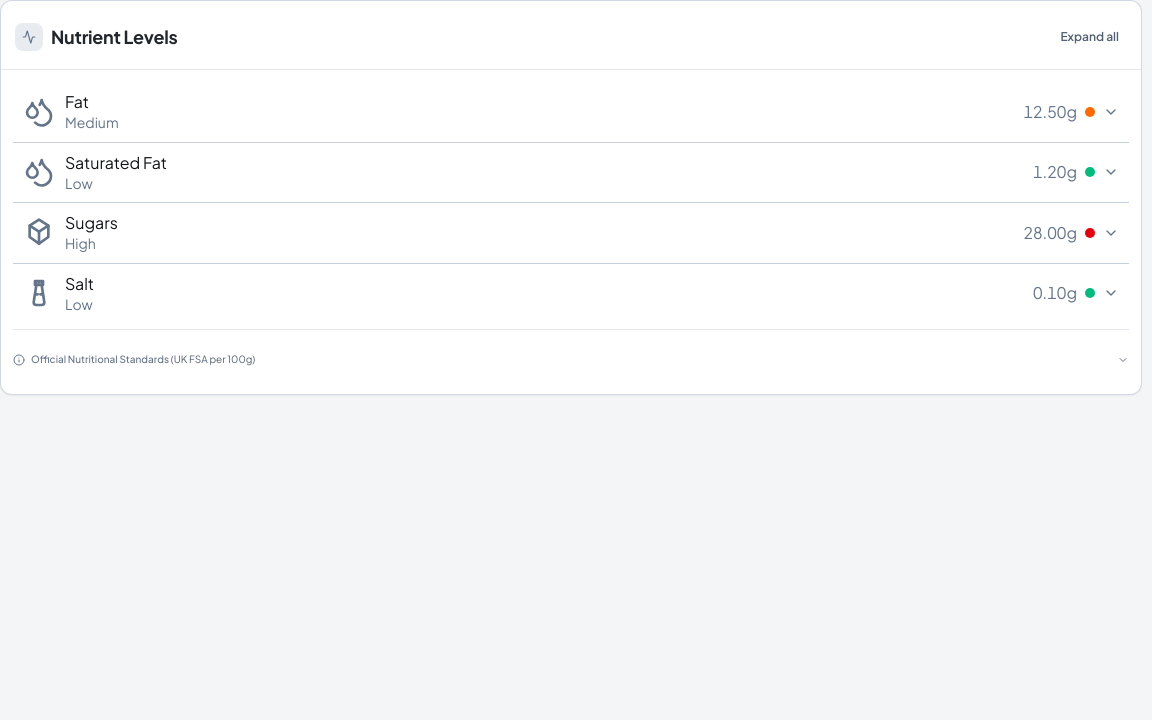
Scenario: NutrientLevelsCard (Yuka-style) › expand all and collapse all controls work as expected
The image size is (1152, 720).
Click the button "Expand all".
click(1090, 37)  # box 1052,15 -> 1127,59
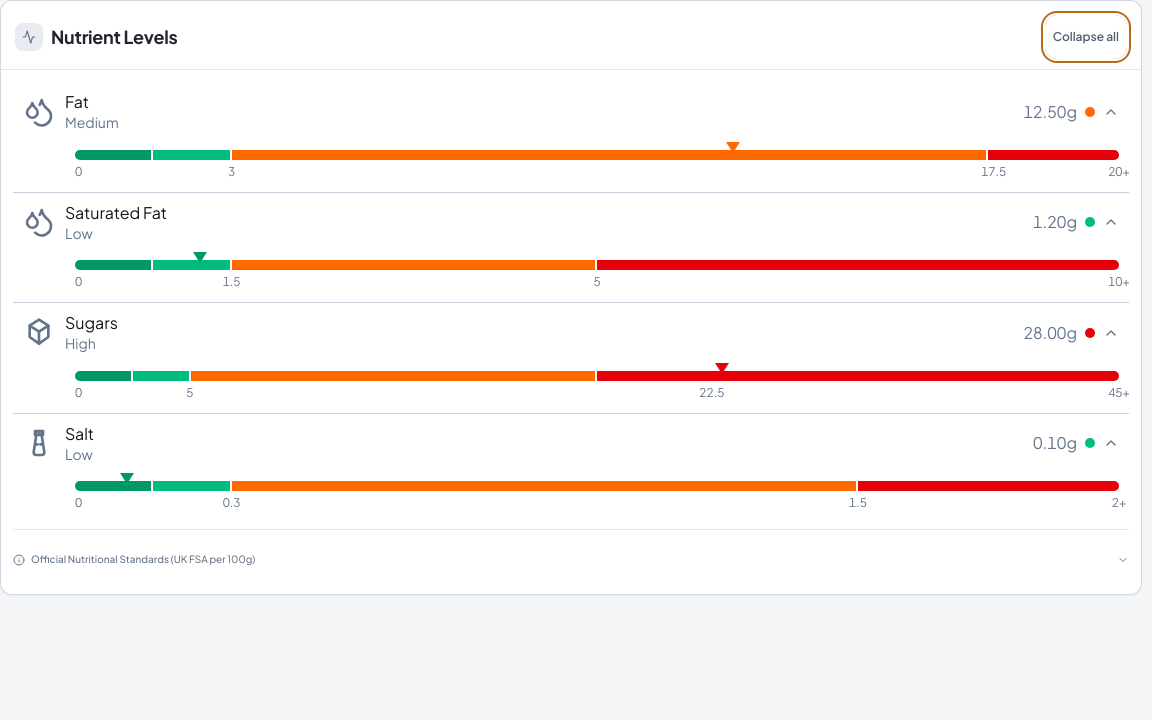
Expected: the number of elements with test id "scale-track" is 4, 75,150 -> 1119,160; 75,260 -> 1119,270; 75,370 -> 1119,380; 75,481 -> 1119,491
Expected: the button "Collapse all" is shown
Note: Click collapse all
Click the button "Collapse all".
click(1086, 37)  # box 1045,15 -> 1127,59
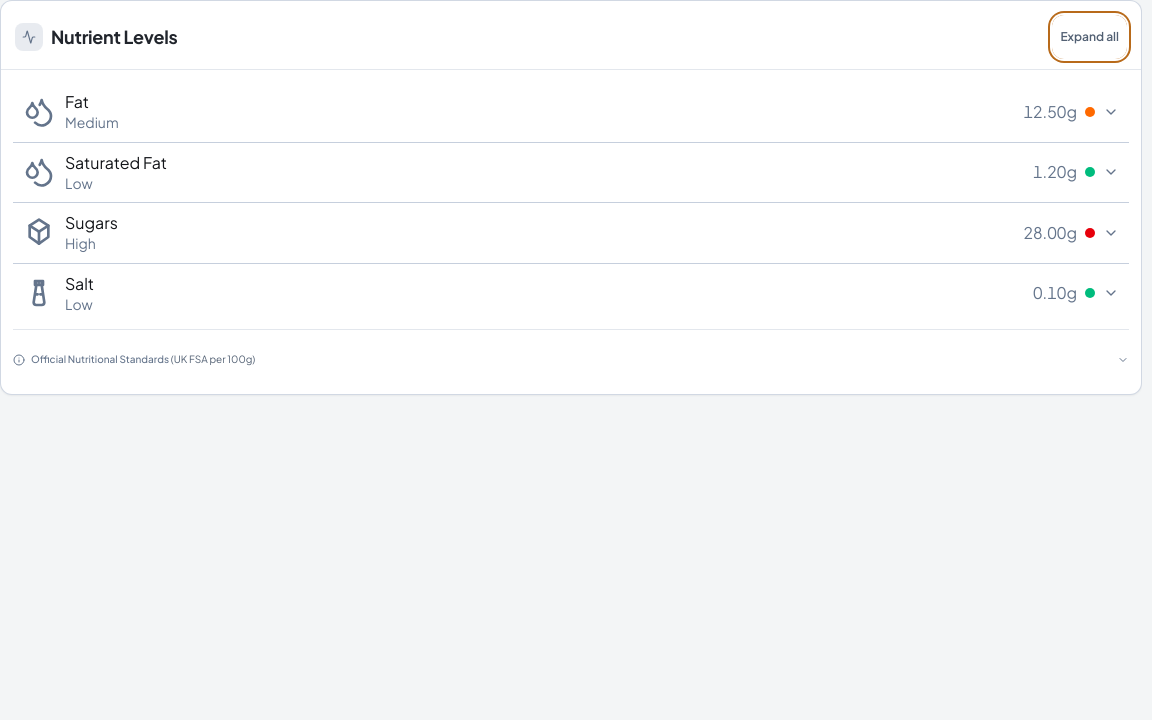
Expected: the element with test id "scale-track" is gone
